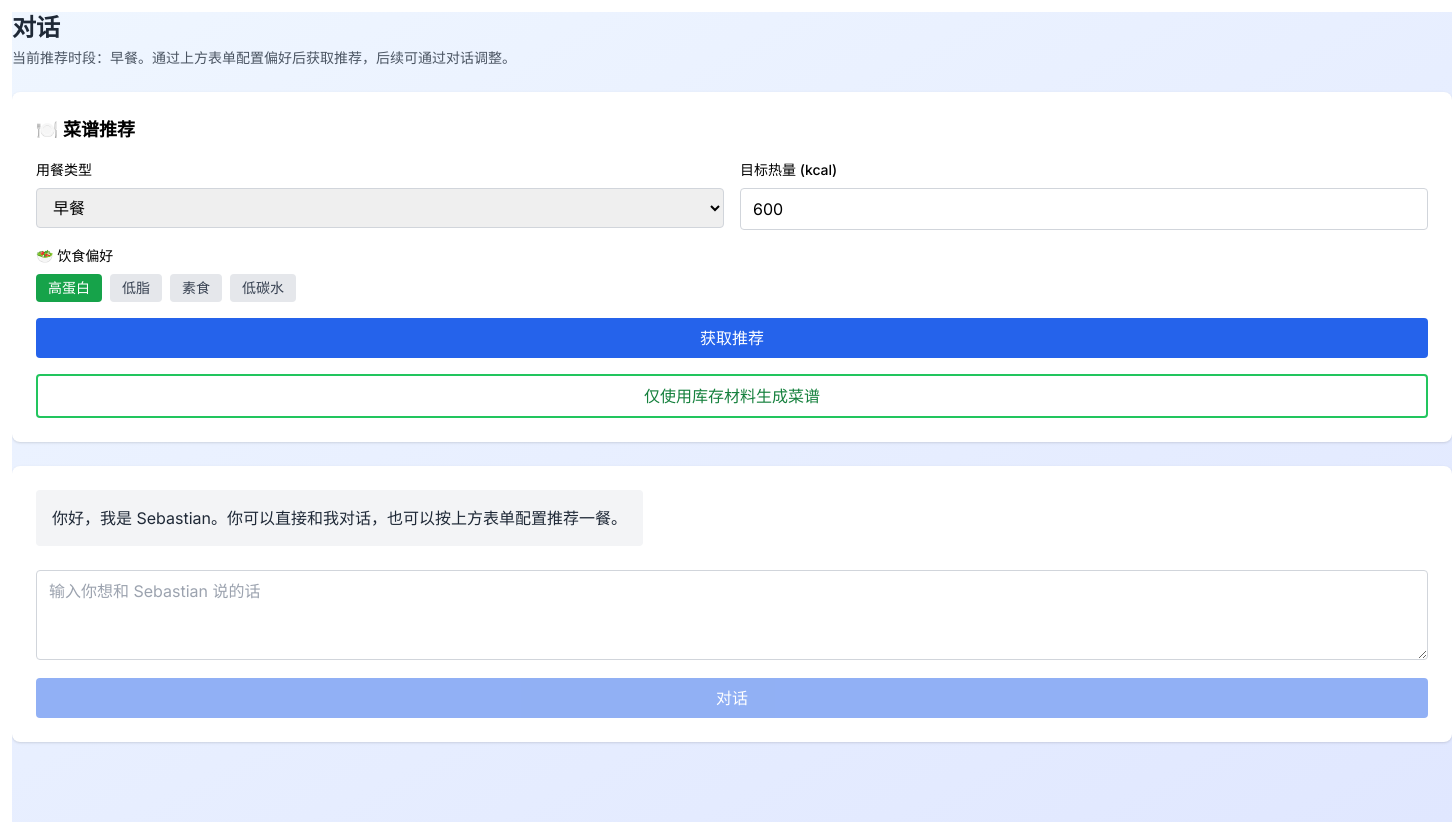
ConversationPage — 菜谱推荐结果展示 › B1. 推荐结果作为 assistant 消息展示
Click the button "获取推荐": (732, 338) [36,318,1428,358]
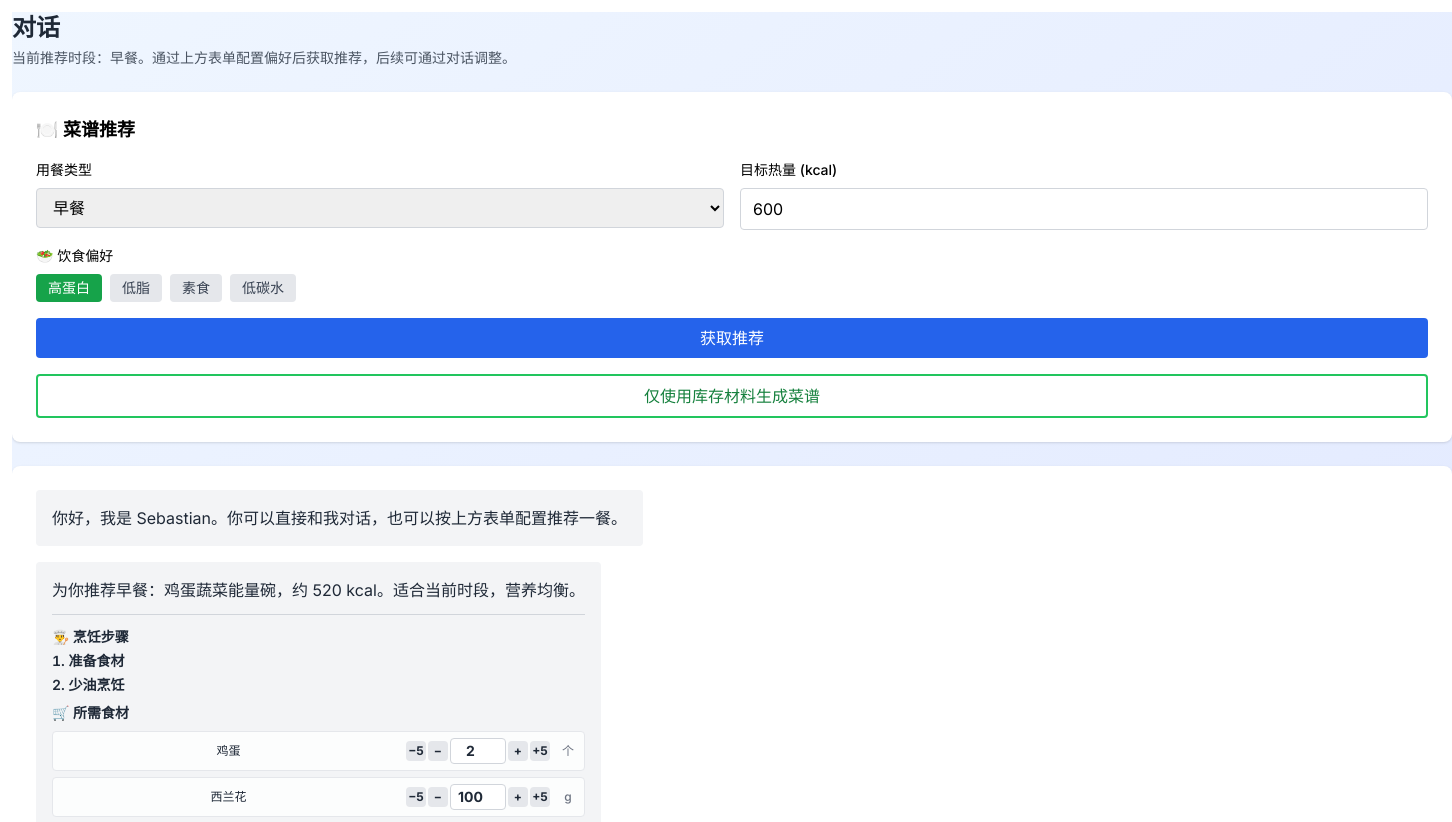
Now the text "鸡蛋蔬菜能量碗" is shown, box [52,580,585,600]
